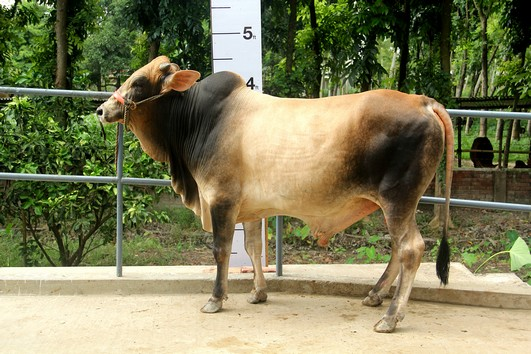cow: (89, 46, 463, 336)
